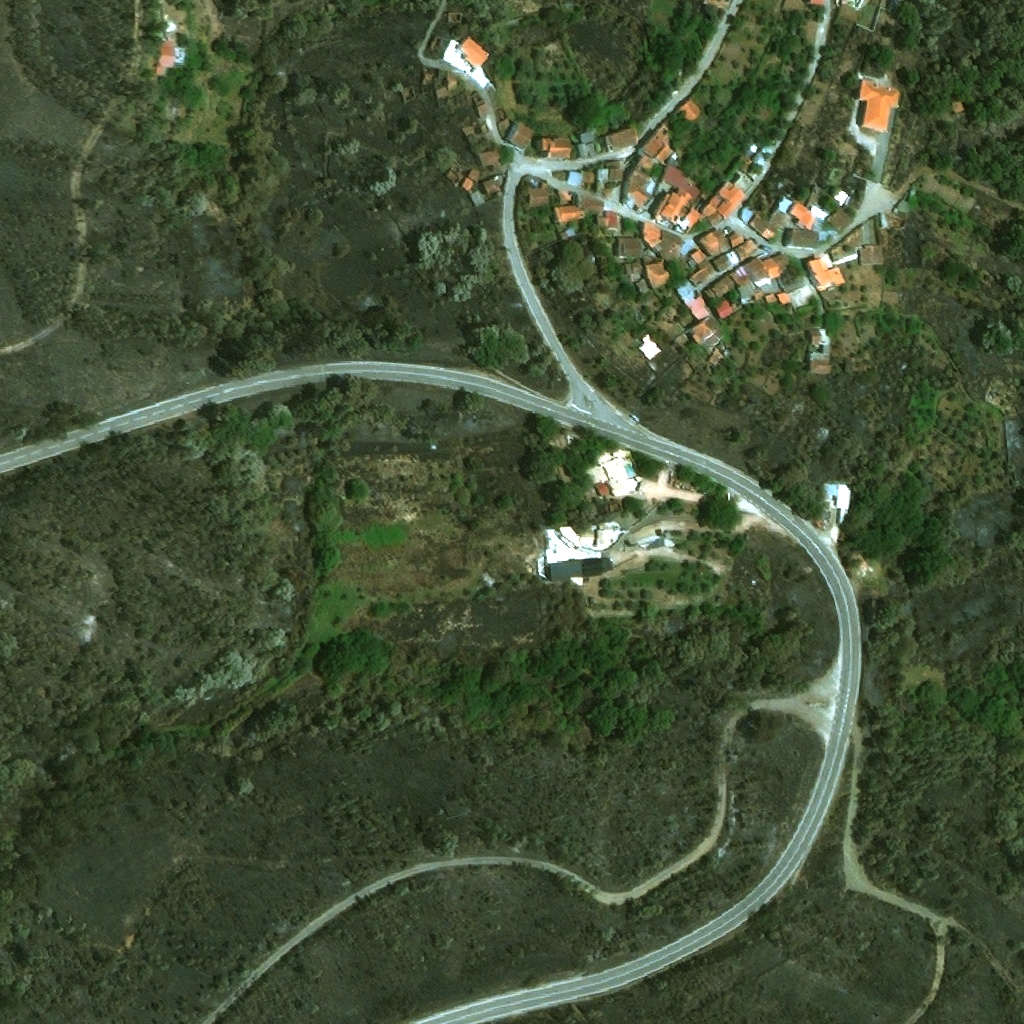0 no-damage: (545, 526, 602, 565), (859, 79, 901, 131), (677, 279, 713, 321), (549, 558, 613, 581), (602, 456, 638, 496), (807, 255, 848, 289), (663, 165, 704, 199), (642, 126, 674, 164), (154, 41, 186, 76), (695, 224, 730, 256), (459, 36, 491, 68), (717, 186, 746, 220), (786, 278, 817, 309), (556, 193, 589, 221), (605, 125, 639, 152), (627, 170, 652, 206), (506, 120, 535, 151), (662, 191, 692, 220), (789, 200, 818, 230), (692, 315, 721, 342), (646, 259, 673, 288), (745, 257, 772, 286), (706, 274, 737, 299), (661, 229, 684, 262), (786, 227, 820, 248), (690, 258, 717, 284), (732, 170, 758, 196), (639, 334, 664, 360), (713, 250, 742, 272), (677, 98, 701, 124), (752, 215, 778, 239), (715, 296, 742, 319), (814, 12, 832, 46), (828, 208, 857, 229), (811, 344, 833, 371), (822, 483, 837, 521), (653, 192, 672, 221), (619, 236, 644, 258), (735, 239, 759, 261), (478, 151, 504, 171), (576, 131, 595, 158), (484, 173, 506, 195), (531, 183, 551, 207), (836, 484, 853, 512), (860, 244, 883, 264), (763, 256, 783, 279), (738, 284, 764, 301), (644, 221, 662, 245), (728, 271, 755, 287), (552, 139, 573, 159), (727, 227, 746, 248), (810, 204, 833, 221), (778, 194, 797, 214), (561, 525, 582, 543), (689, 249, 709, 267), (835, 189, 855, 207), (813, 328, 833, 345), (753, 152, 771, 170), (587, 196, 606, 213), (687, 207, 704, 226), (775, 253, 792, 272), (894, 198, 914, 214), (842, 0, 870, 11), (626, 261, 643, 279), (597, 529, 616, 545), (738, 206, 755, 223), (709, 328, 727, 344), (598, 168, 610, 191), (668, 151, 684, 168), (761, 279, 779, 294), (811, 182, 831, 195), (568, 171, 584, 187), (710, 347, 725, 364), (472, 190, 487, 207), (708, 192, 723, 209), (783, 0, 804, 12), (610, 167, 625, 183), (700, 203, 716, 218), (446, 72, 459, 90), (864, 223, 877, 241), (537, 138, 552, 153), (595, 481, 611, 495), (637, 278, 651, 293), (462, 177, 477, 191), (778, 291, 793, 305), (580, 536, 595, 550), (561, 190, 574, 204), (605, 160, 626, 168), (477, 104, 489, 118), (470, 169, 482, 182), (748, 168, 761, 180), (583, 172, 596, 183), (463, 125, 476, 135), (749, 143, 760, 153), (812, 0, 826, 7), (882, 213, 888, 227), (729, 492, 731, 500)
2 major-damage: (497, 108, 512, 138), (436, 87, 448, 106)
3 destroyed: (447, 164, 468, 185), (423, 66, 446, 84), (402, 86, 418, 102), (472, 90, 486, 104), (448, 12, 462, 22)
4 un-classified: (213, 58, 253, 83), (669, 470, 679, 484)
